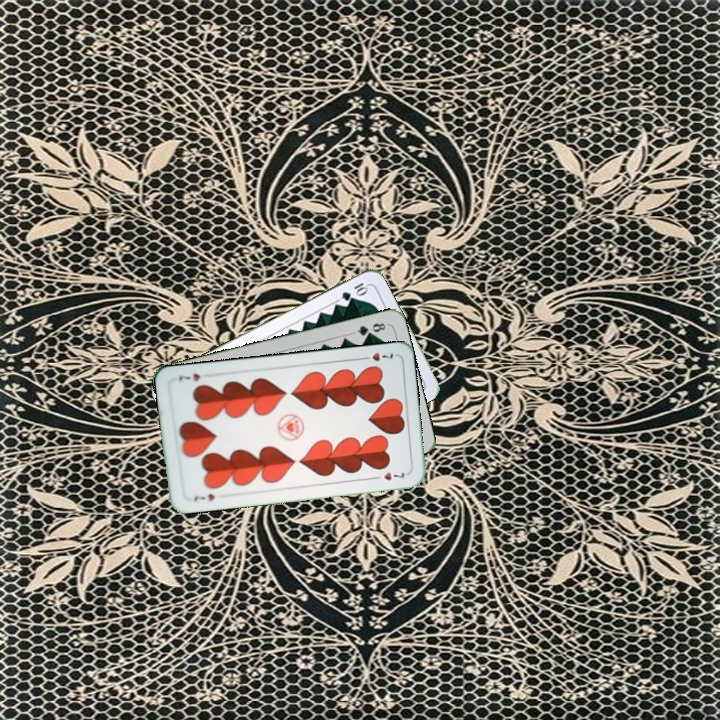G10: (337, 278, 371, 303)
G8: (350, 319, 390, 339)
H7: (357, 348, 396, 364), (190, 490, 217, 503)
